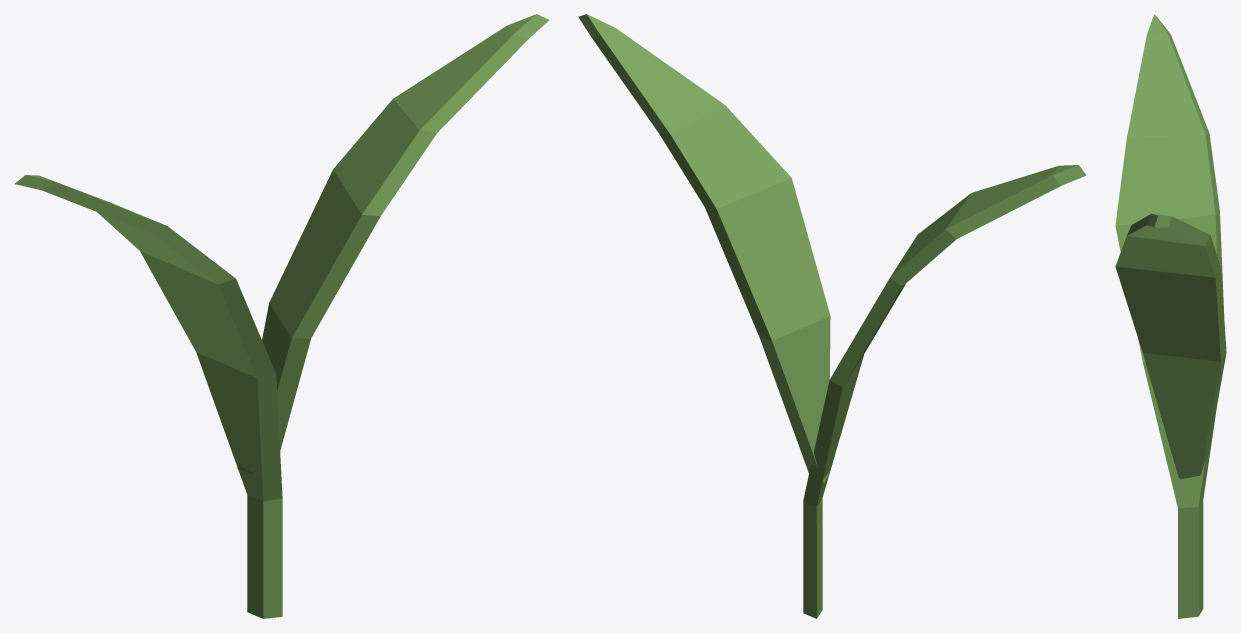
Rendered from Carrot_1.gltf.
The picture shows the model from 3 angles, left to right: view 1: azimuth 30°, elevation 25°; view 2: azimuth 150°, elevation 25°; view 3: azimuth 270°, elevation 25°; orthographic projection. The views are drawn at different scales.
Parts seen in each view (by area): view 1: Carrot_1; view 2: Carrot_1; view 3: Carrot_1.
Part boxes in pixels (x1=…): Carrot_1: x1=15, y1=14, x2=549, y2=618; Carrot_1: x1=578, y1=14, x2=1086, y2=618; Carrot_1: x1=1115, y1=14, x2=1226, y2=618.
Size of the model in its own units: 0.3551 by 0.3502 by 0.0686.
